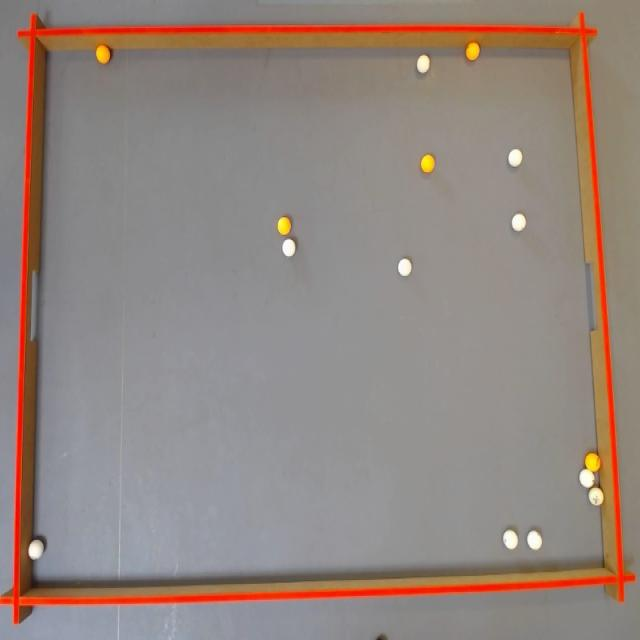orange_ball: (585, 452, 600, 472), (96, 44, 110, 64), (421, 154, 435, 172), (466, 42, 480, 60), (278, 217, 290, 234)
white_ball: (28, 538, 44, 560), (588, 486, 604, 506), (579, 468, 595, 488), (527, 530, 542, 551), (503, 529, 518, 550), (508, 149, 523, 167), (512, 213, 526, 232), (282, 238, 296, 256), (416, 54, 429, 73), (398, 258, 411, 276)
